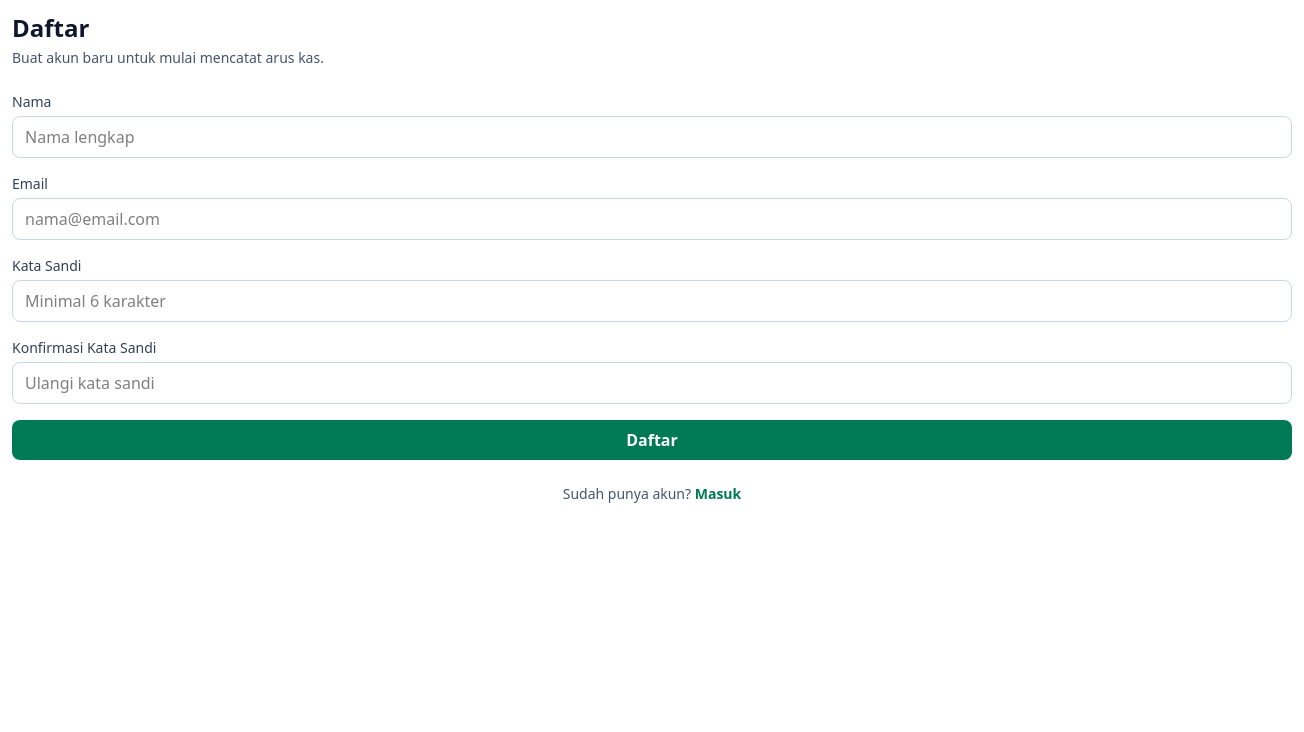
RegisterPage › gagal -> dialog error & status memproses
The image size is (1304, 732).
Type "n" into the field with id "name" at [652, 137], box x1=12 y1=116 x2=1292 y2=158
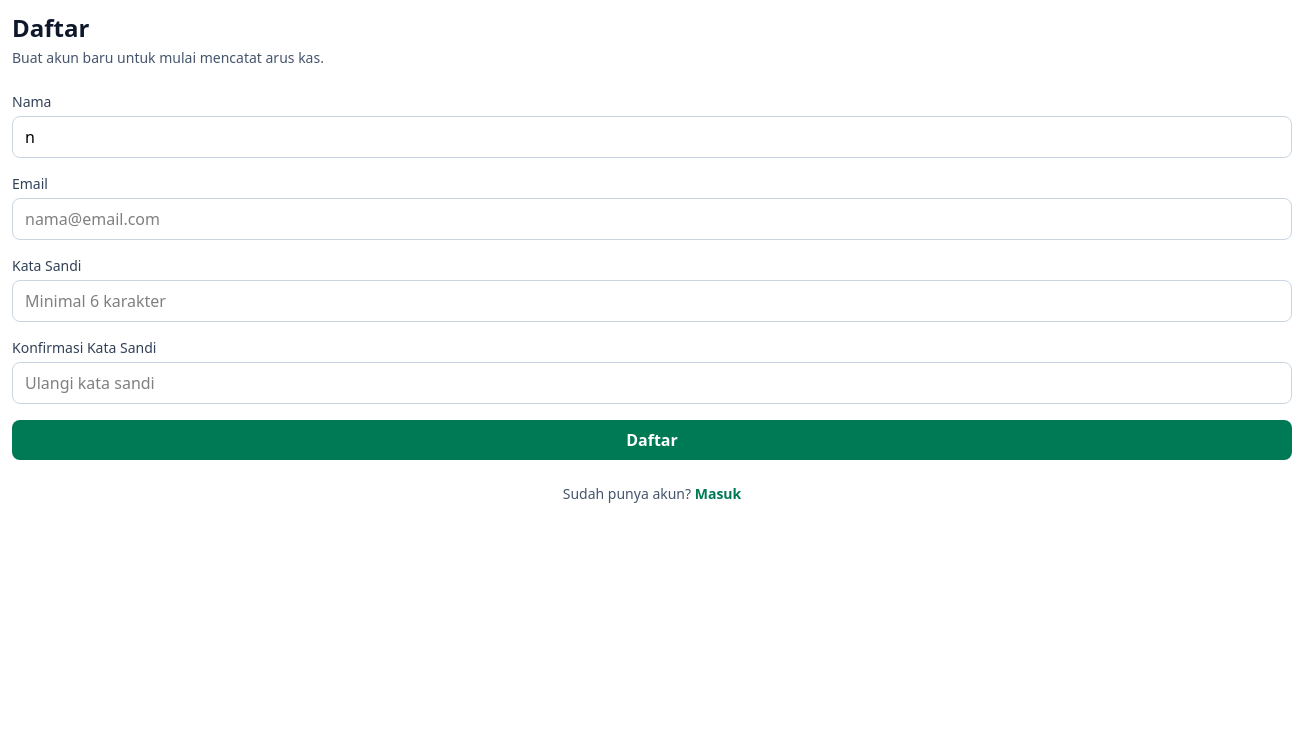
Type "a@b.co" into the field with id "email" at [652, 219], box x1=12 y1=198 x2=1292 y2=240
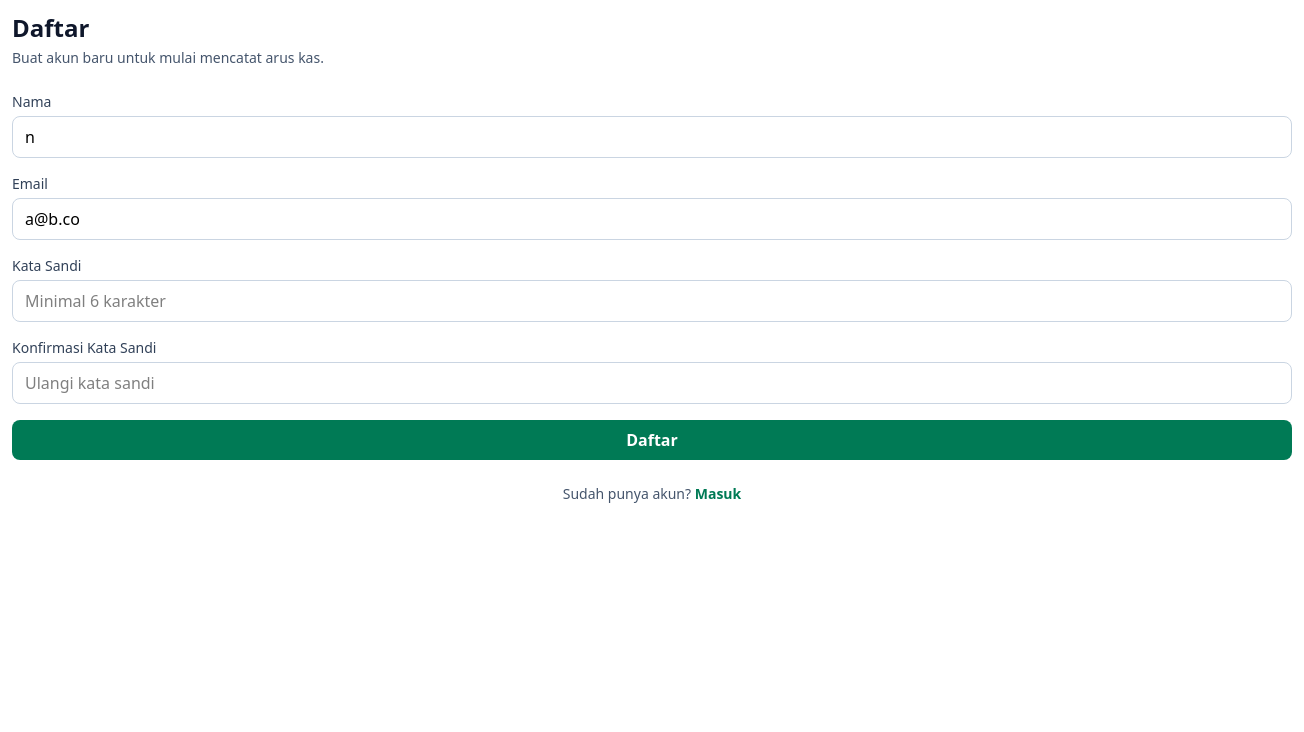
Type "123456" into the password field labelled "Kata Sandi" at [652, 301], box x1=12 y1=280 x2=1292 y2=322
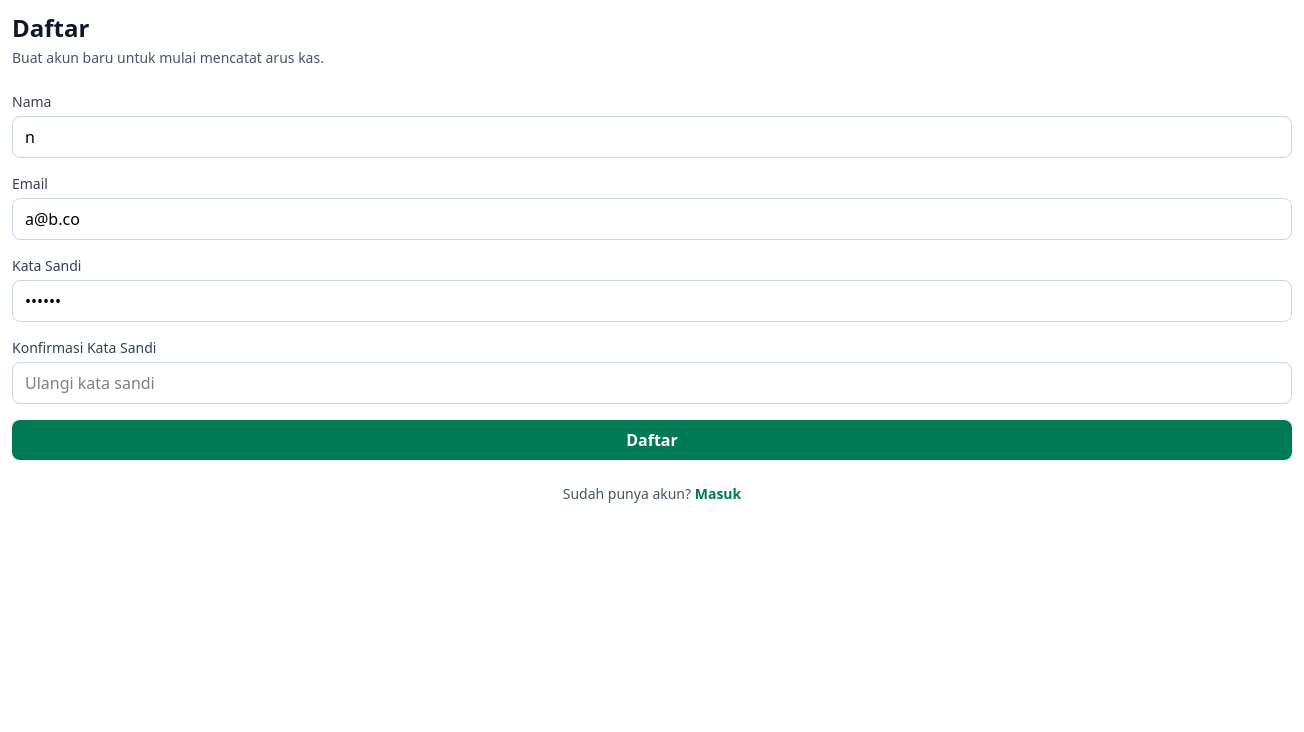
Type "123456" into the password field with id "confirmPassword" at [652, 383], box x1=12 y1=362 x2=1292 y2=404
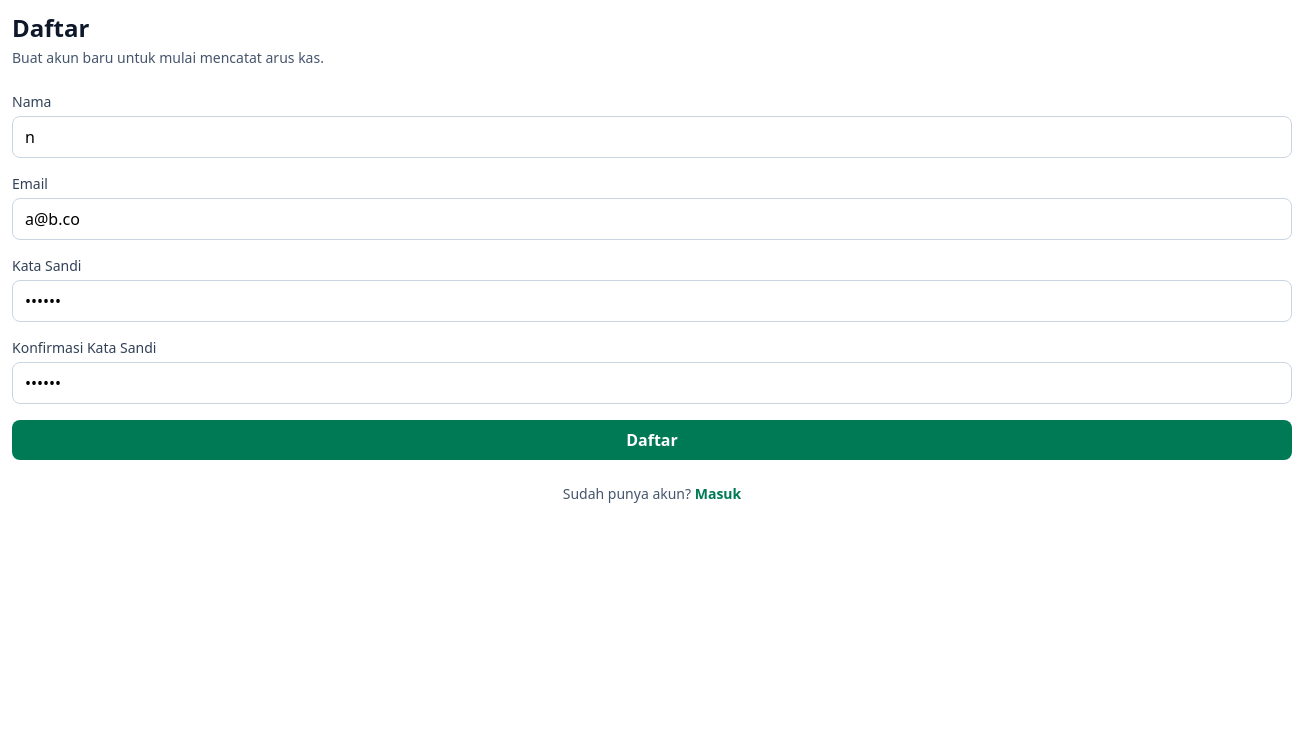
Submit the form, box x1=12 y1=92 x2=1292 y2=460
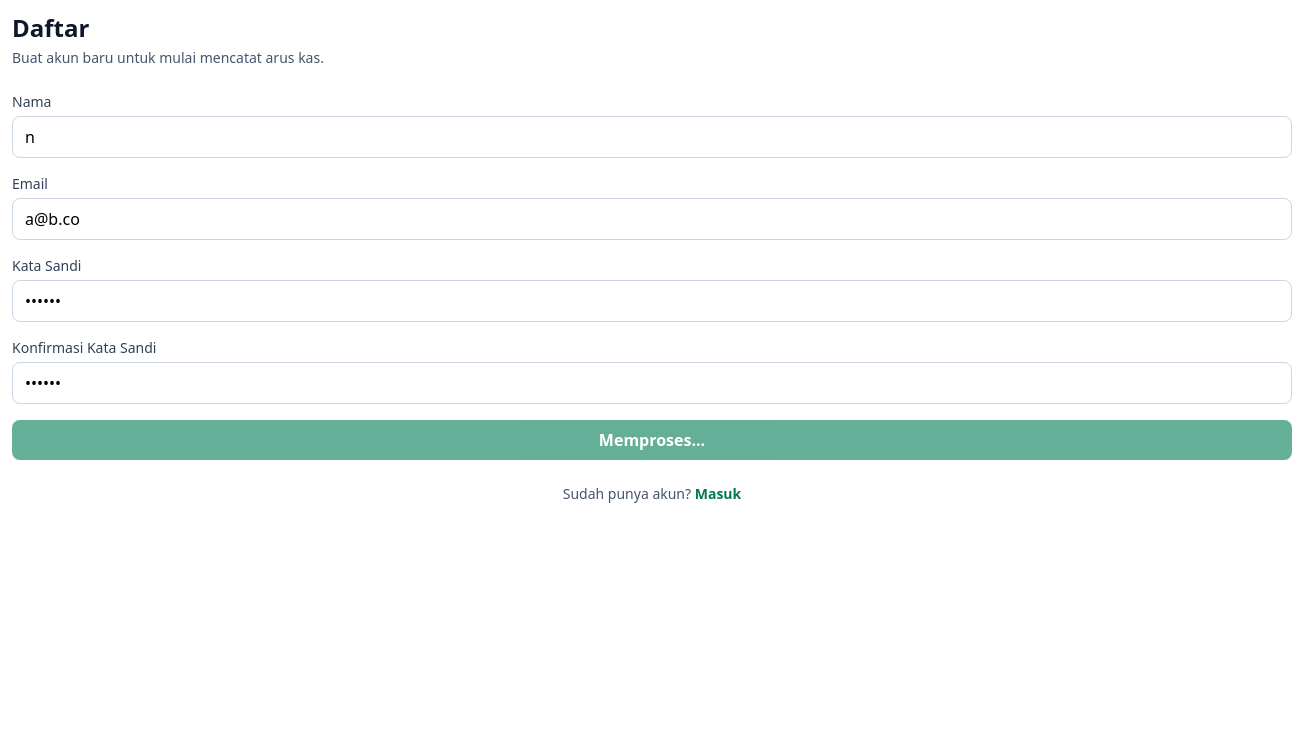
expect the submit button reads "Memproses...": met, box x1=12 y1=420 x2=1292 y2=460
